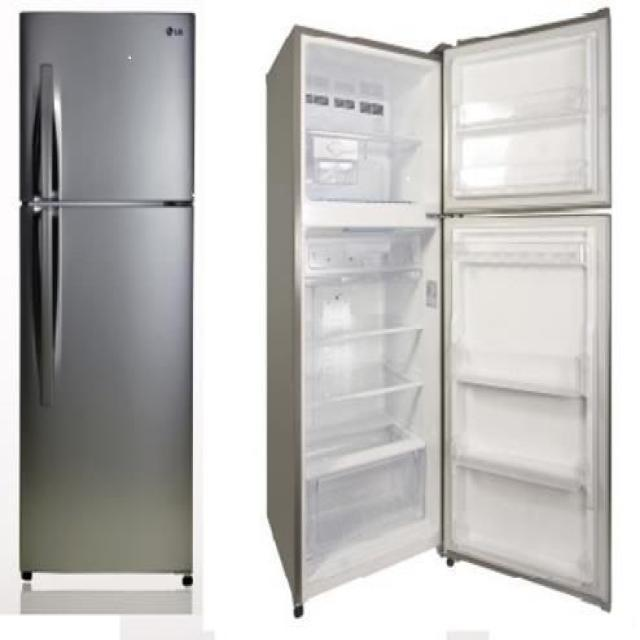obstacle: (264, 6, 613, 618), (17, 9, 195, 610)
